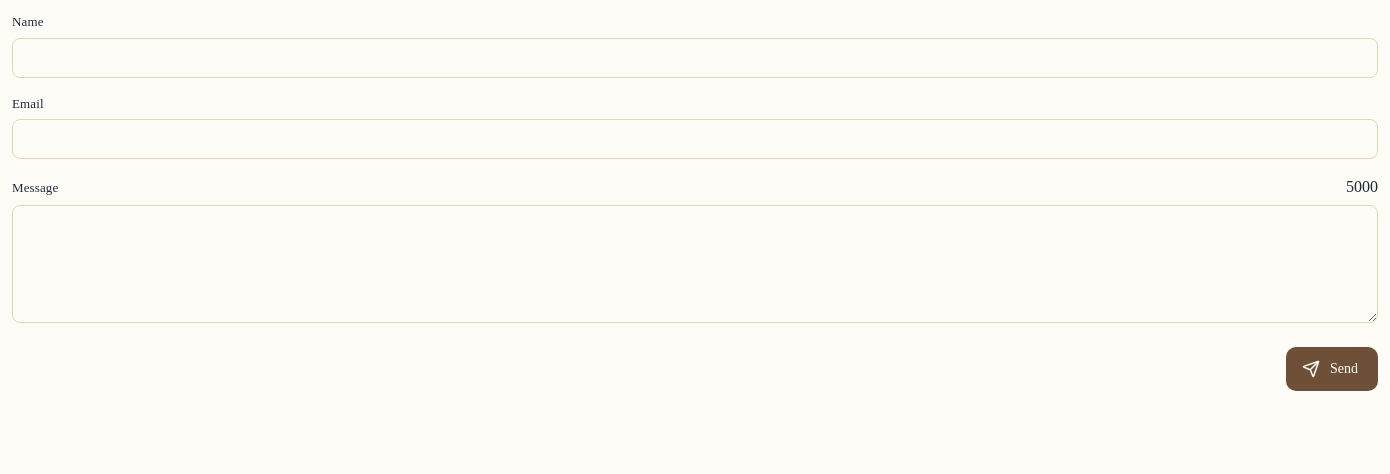
Test: ContactForm › shows validation errors and does not submit when required fields are empty
The width and height of the screenshot is (1390, 474).
What coordinates should you click on to do the following:
click the button "Send"
I would click on:
 (1332, 369)
Its box is [1286,347,1378,391].
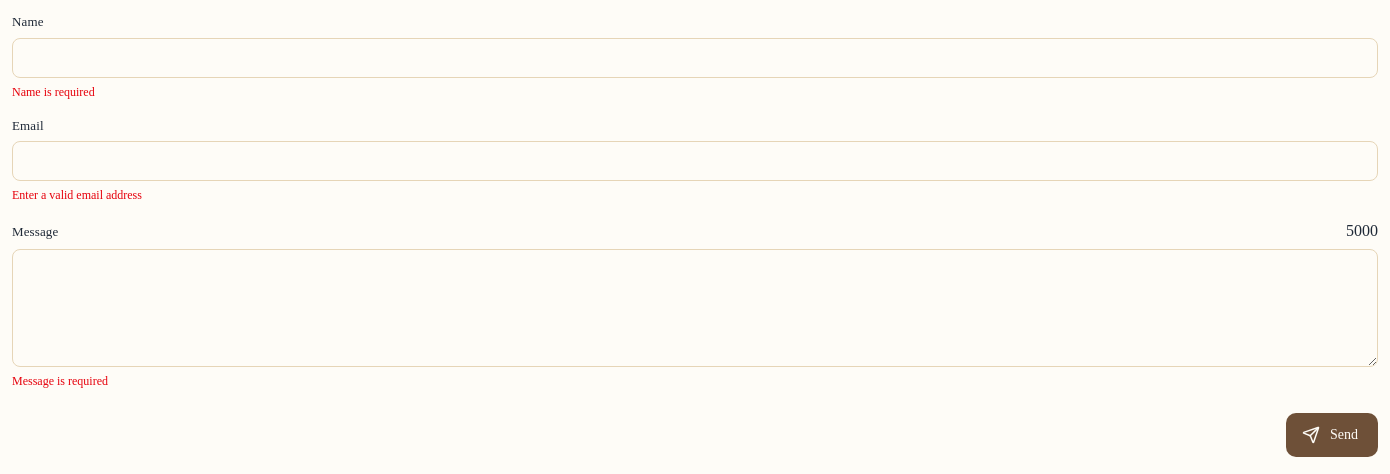
expect the text "Name is required" is shown: met, box [12,84,95,98]
expect the text "Message is required" is shown: met, box [12,374,108,388]
